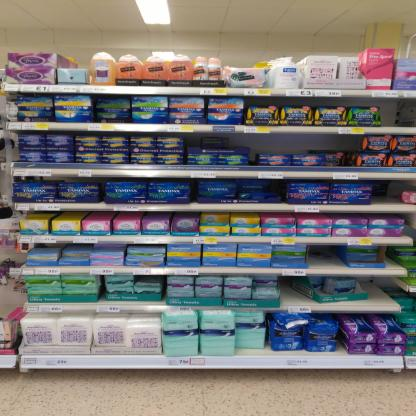empty_space: (376, 184, 400, 208), (381, 105, 405, 127)
